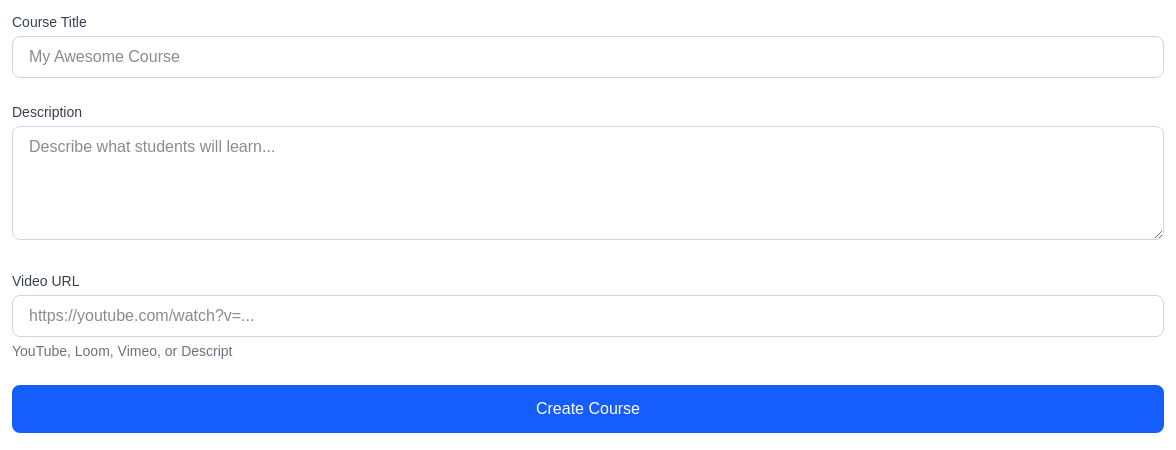
Test case: CourseForm › Submission › should disable submit button while submitting
In the field labelled "Course Title": (588, 57) [12,36,1164,78], type "Test Course"
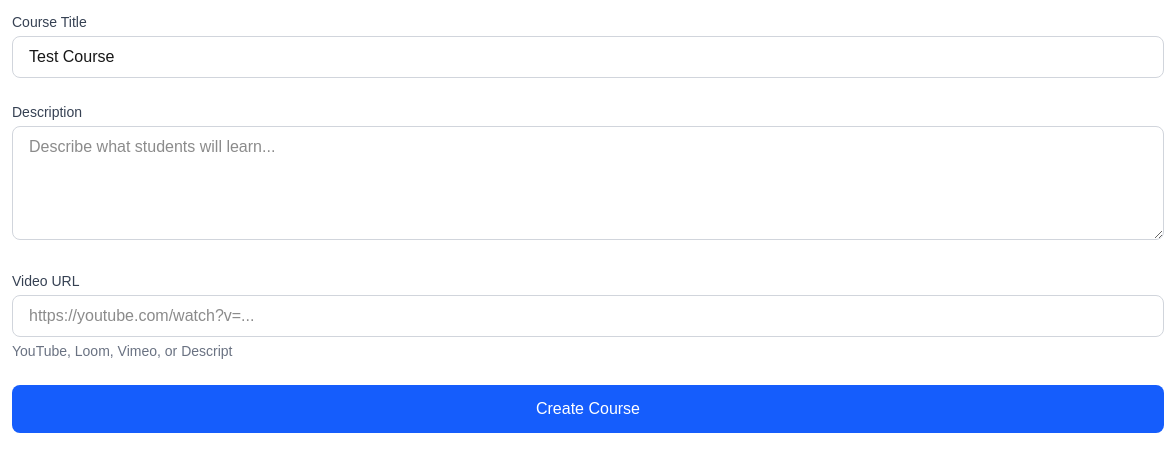
In the text box labelled "Description": (588, 183) [12,126,1164,240], type "Test Description"
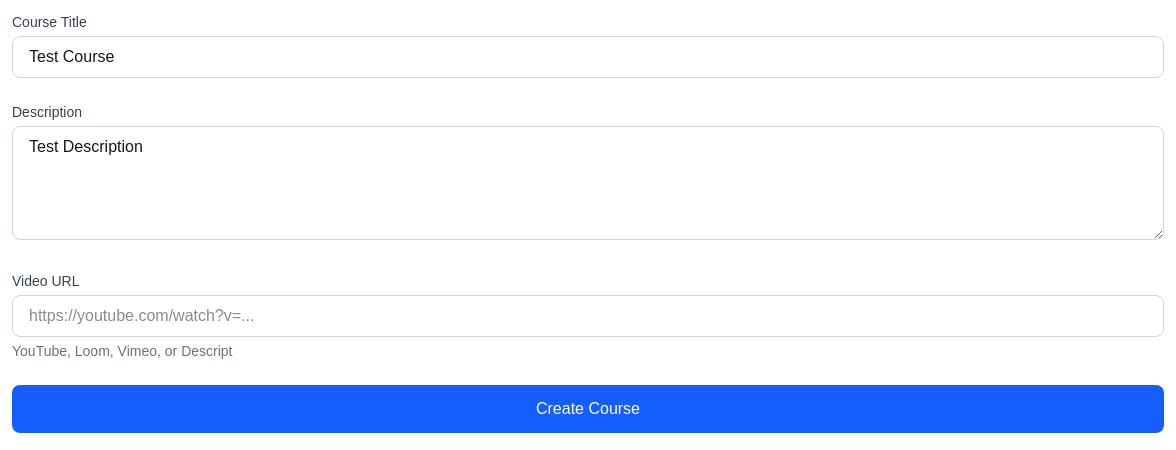
Click the button "Create Course": (588, 409) [12,385,1164,433]
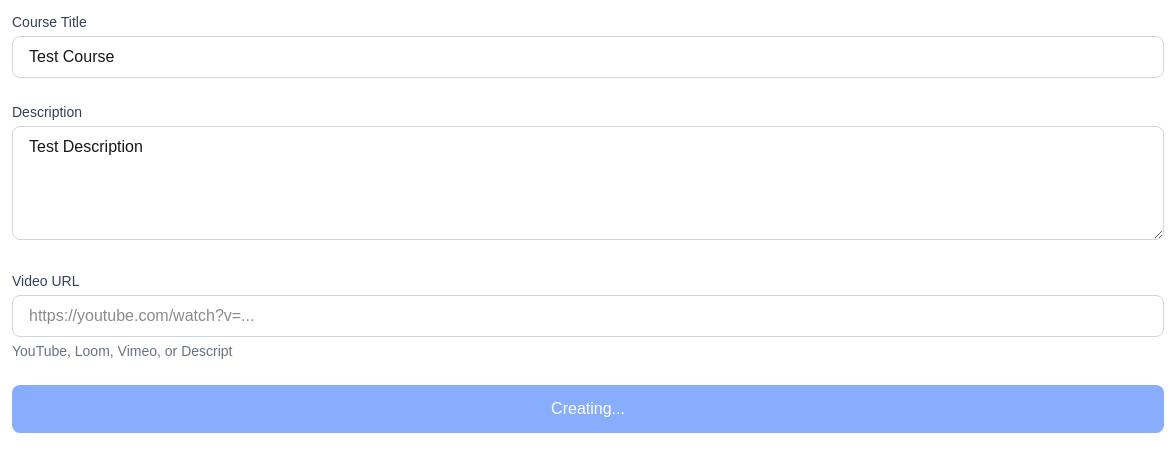
Now the button "Creating..." is disabled, box [12,385,1164,433]
